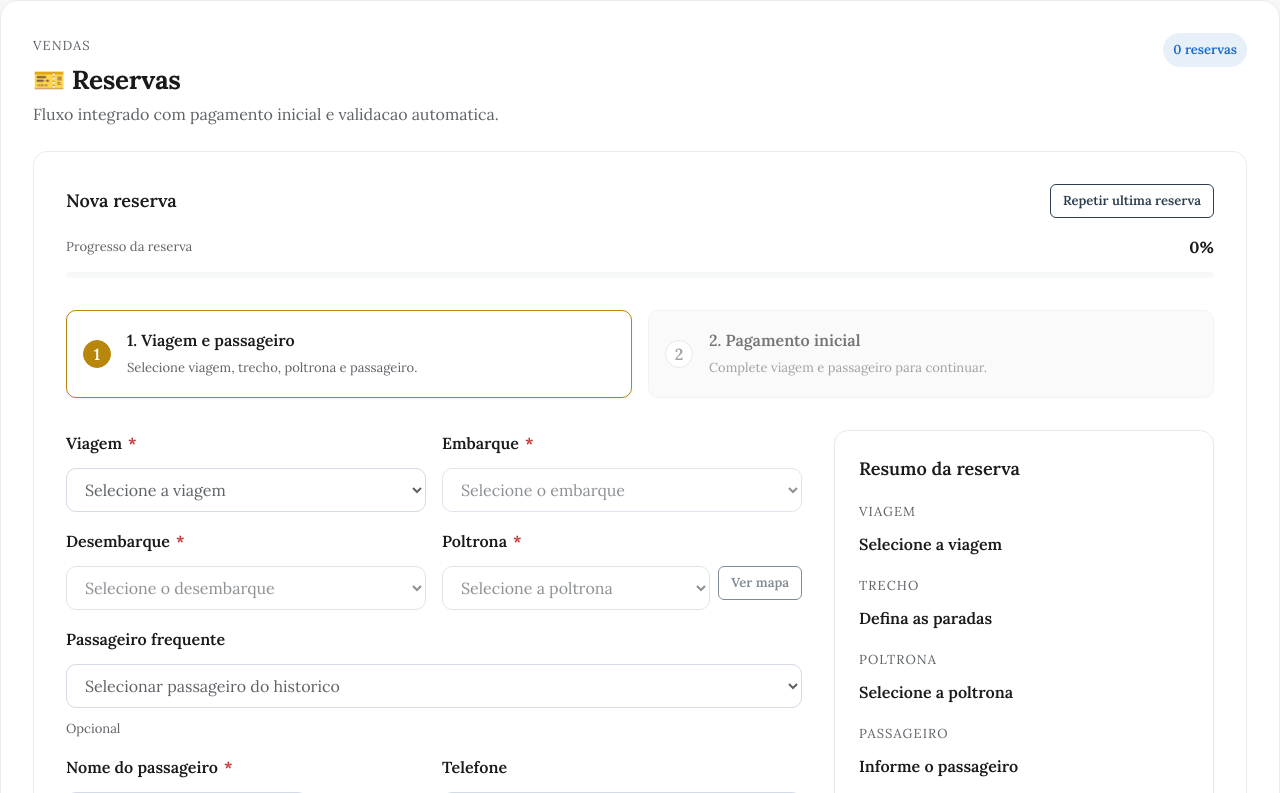
Test: Bookings shortcuts › repete a ultima reserva salva no localStorage
This screenshot has width=1280, height=793.
Click the button "Repetir ultima reserva". click: (1132, 201)
box: [1050,184,1214,218]
(page scrolled)
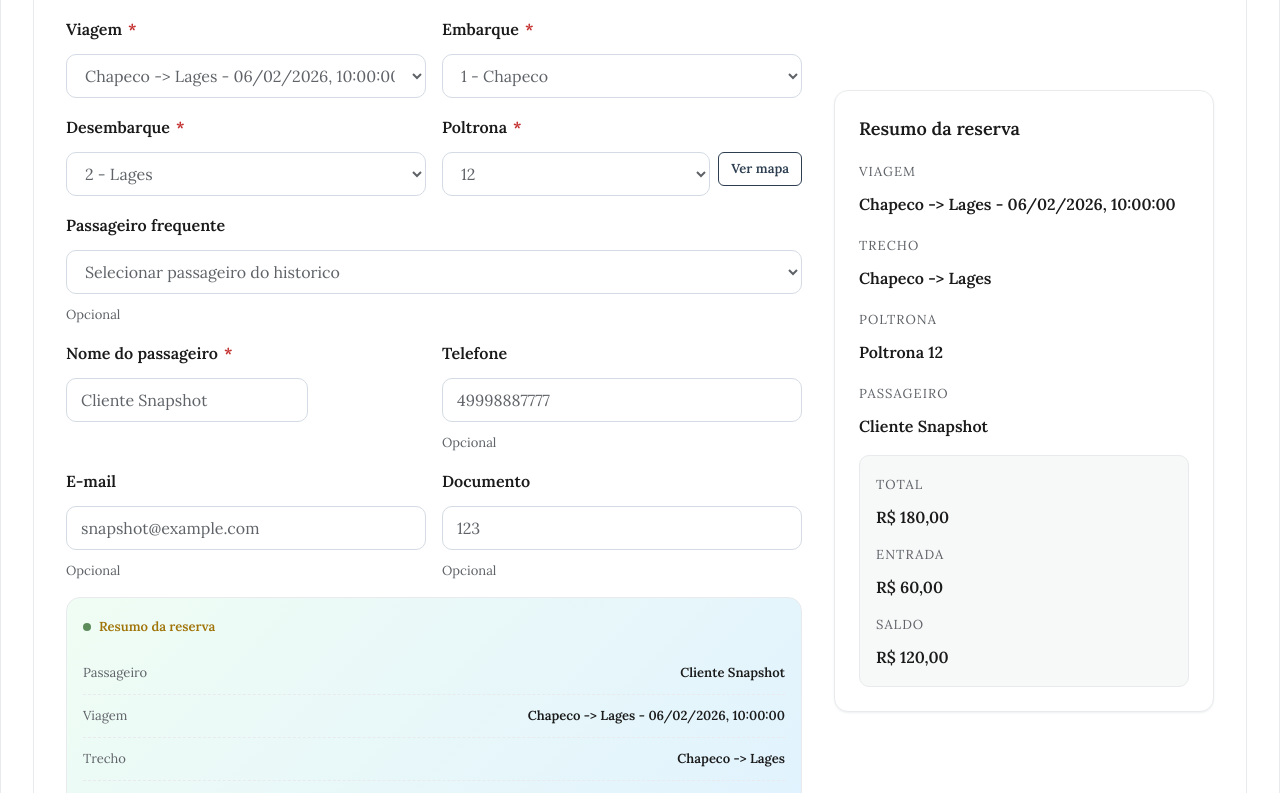
Now the dropdown labelled "Nome do passageiro *" holds "Cliente Snapshot", box [66,378,308,422]
Now the field labelled "Telefone Opcional" holds "49998887777", box [442,378,802,422]
